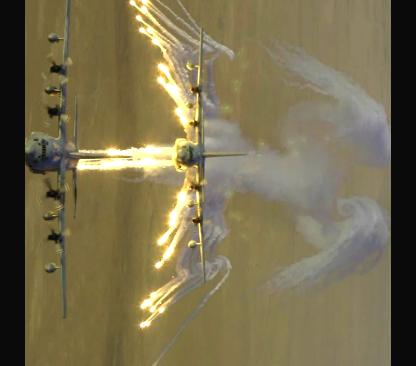Be200: (26, 0, 135, 319), (173, 27, 249, 284)
